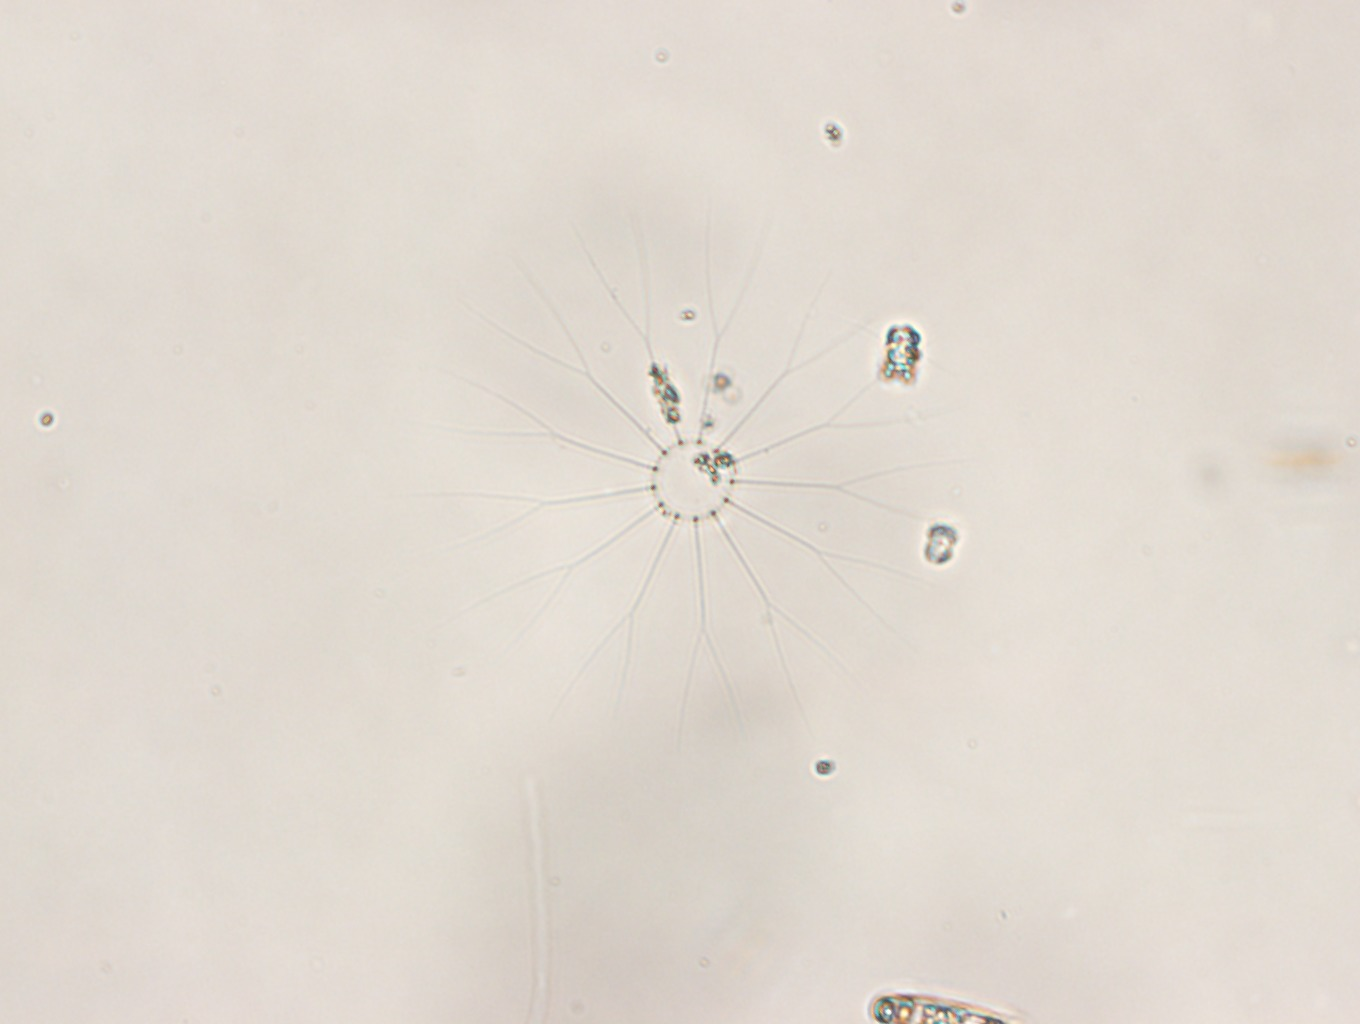bacteriastrum: (433, 190, 967, 734)
